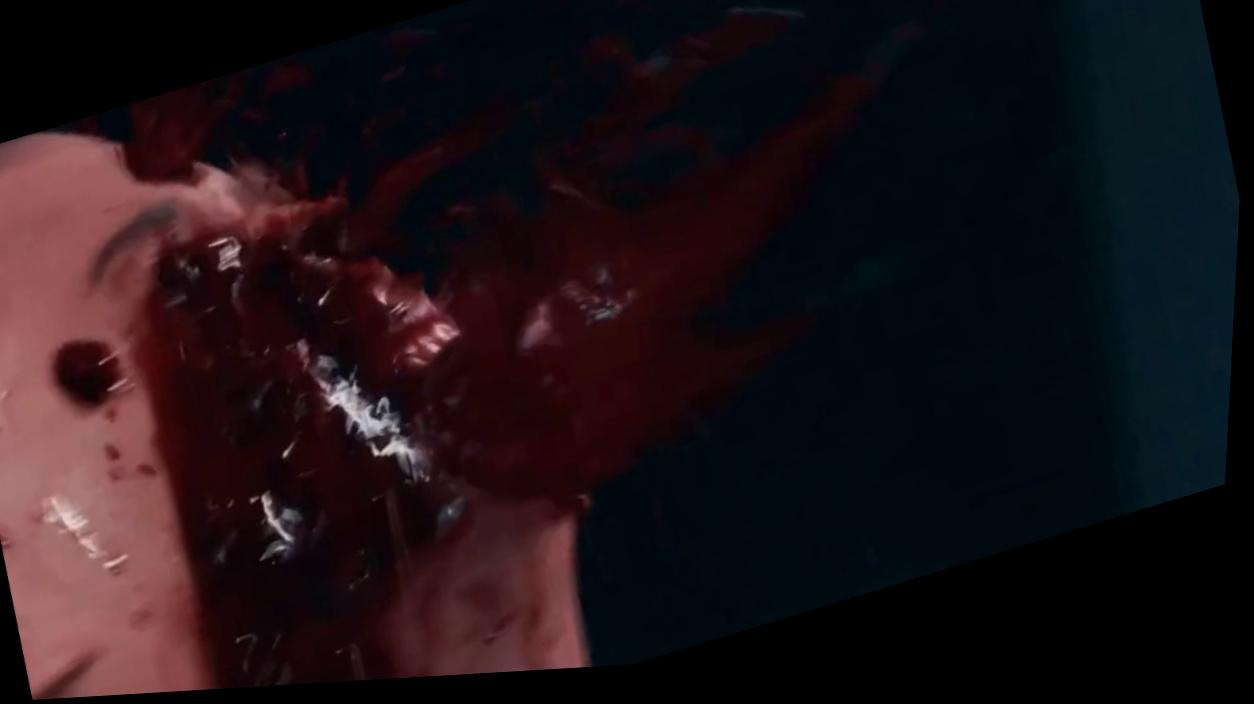Fire: (0, 0, 985, 701)
